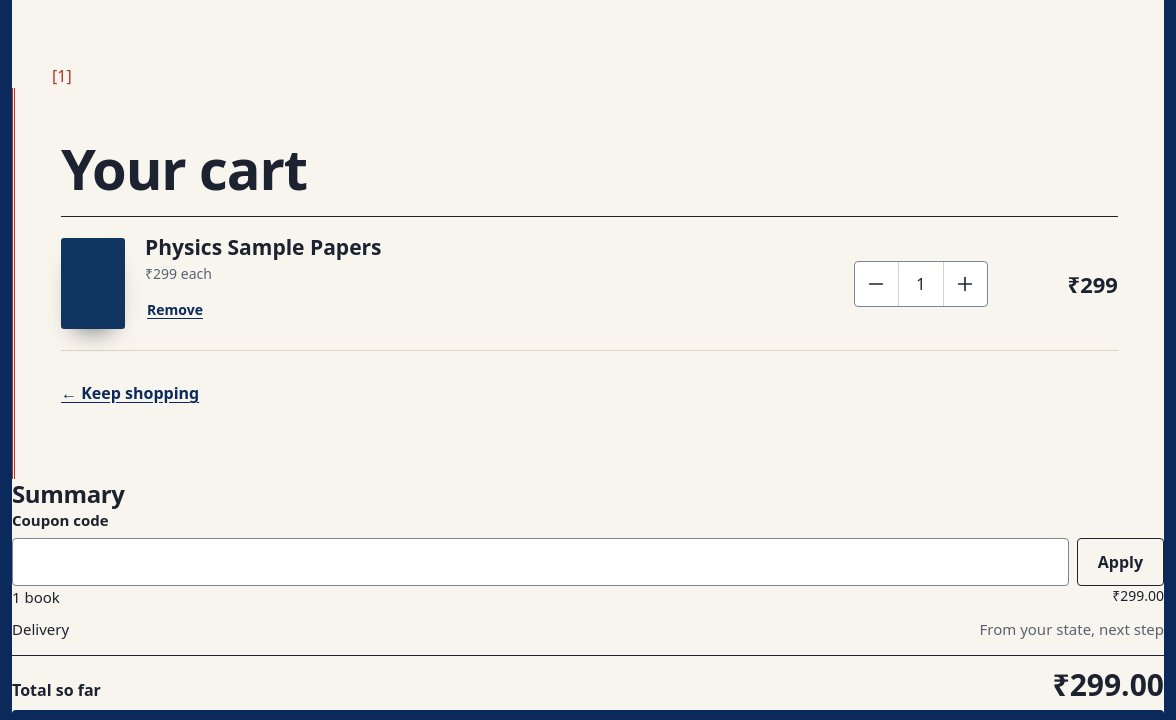
Test: the cart's copies stepper › sends a step at once and shows the cart the API answers
Click the button named "One copy more of Physics Sample Papers" at (965, 284), box 943,262 -> 987,306
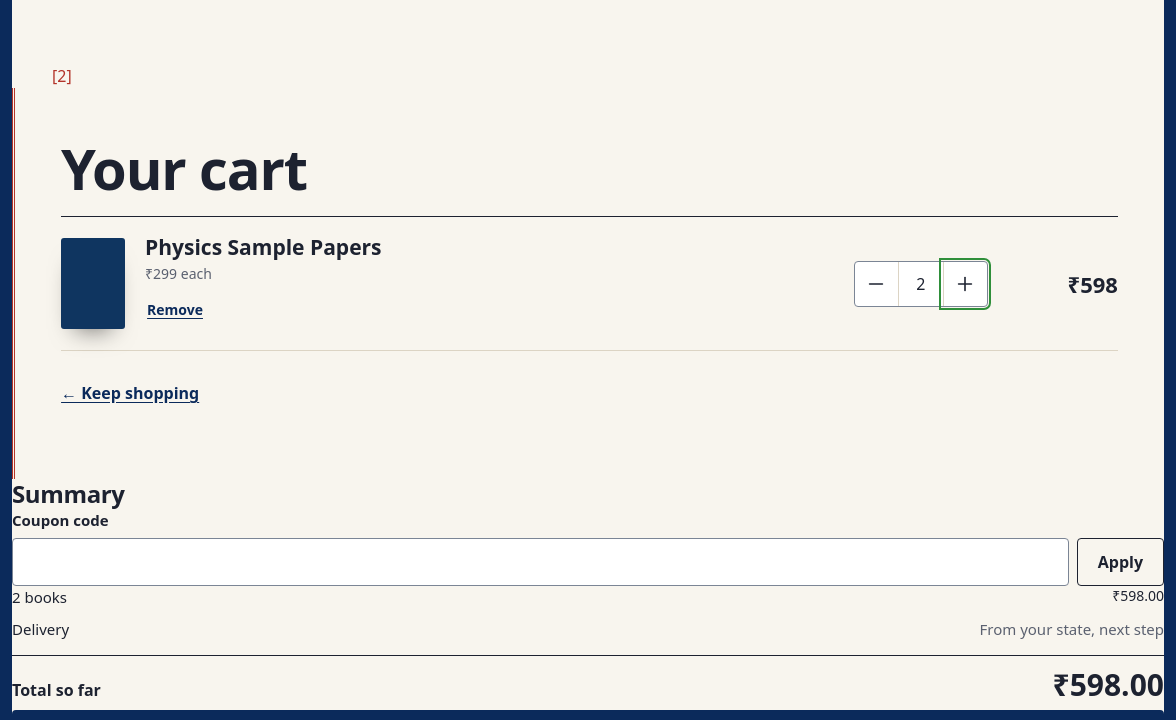
Check: the number field showing "2" is shown, box 899,262 -> 943,306
Check: the text "₹598.00" in the row of "2 books" is shown, box 1112,586 -> 1164,605
